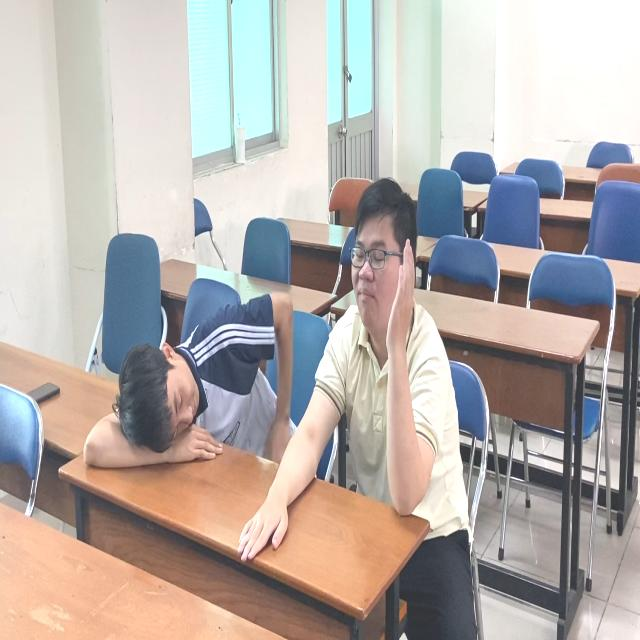raise_hand: (341, 176, 466, 546)
sleep: (84, 298, 291, 468)
